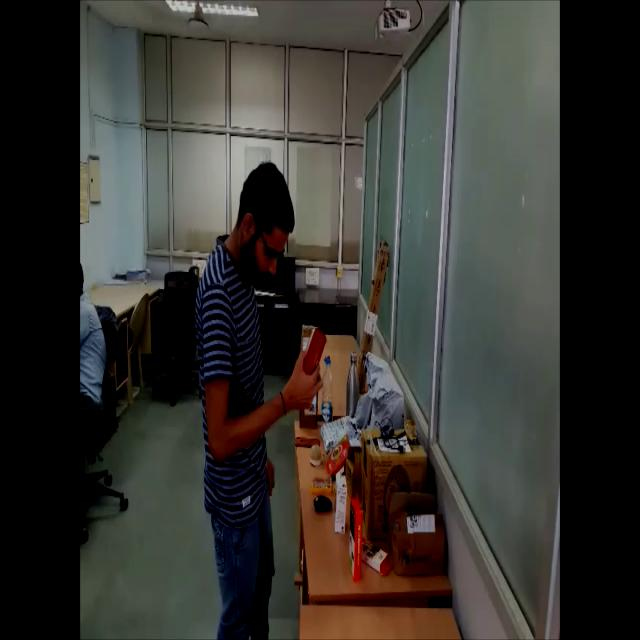normal: (193, 145, 328, 640)
